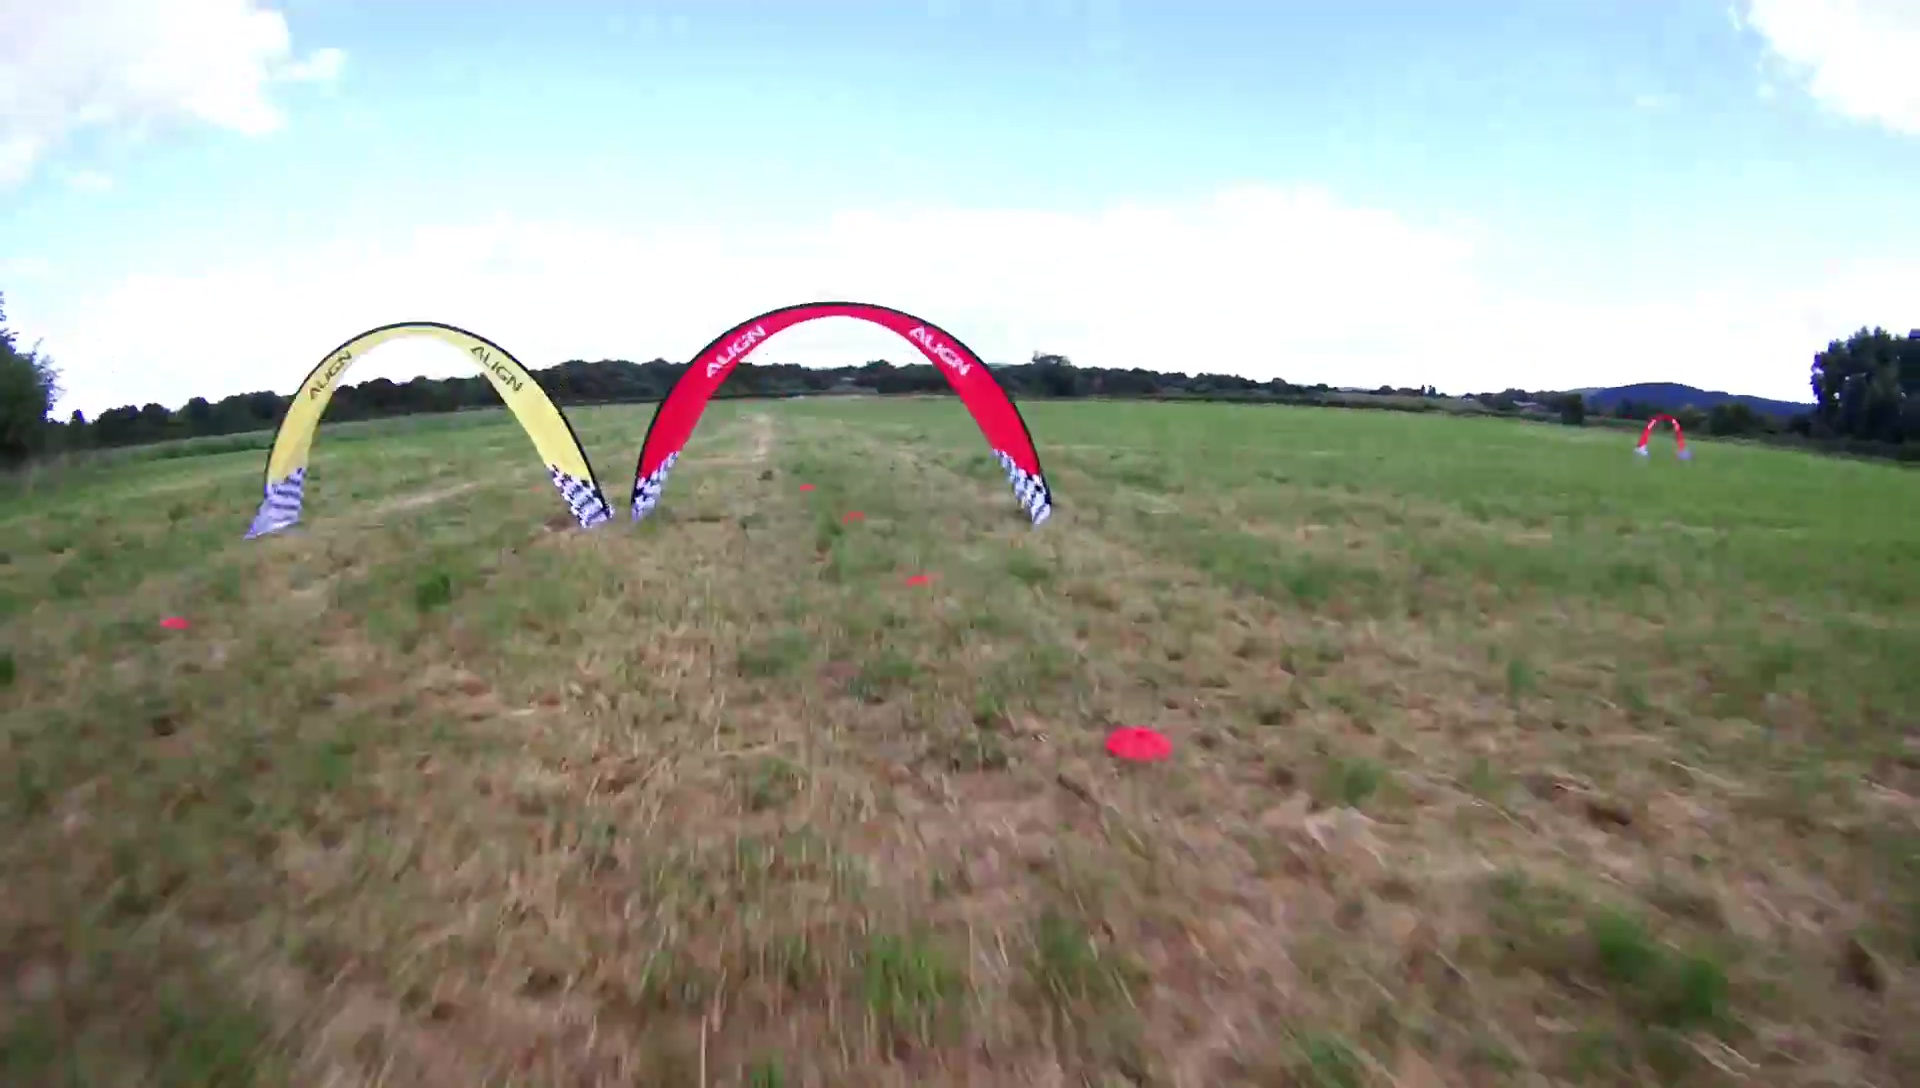gate: (626, 301, 1055, 525), (243, 320, 620, 543), (1633, 415, 1691, 458)
